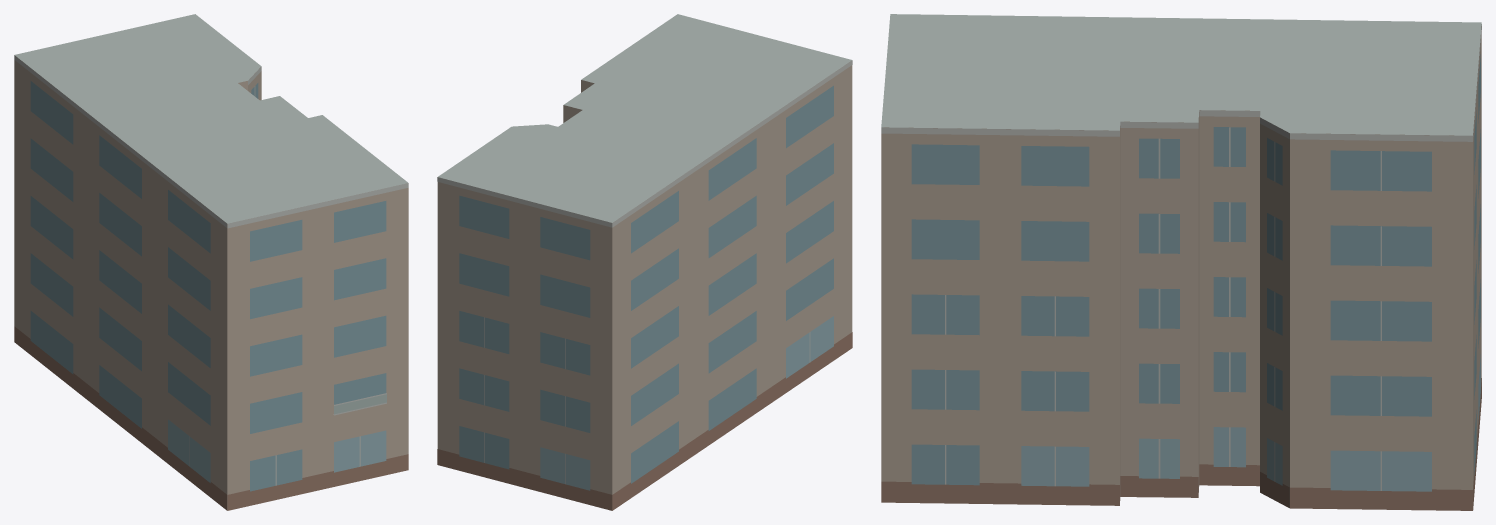
Rendered from survey-upis-32663201.glb.
3 views of the same model, side by side, from view 1: azimuth 30°, elevation 25°; view 2: azimuth 150°, elevation 25°; view 3: azimuth 270°, elevation 25° (orthographic). The views are drawn at different scales.
Parts seen in each view (by area): view 1: survey-upis-32663201.tmp; view 2: survey-upis-32663201.tmp; view 3: survey-upis-32663201.tmp.
Boxes of the visible parts, left/top/right/bottom form: survey-upis-32663201.tmp: left=14, top=14, right=408, bottom=510; survey-upis-32663201.tmp: left=437, top=14, right=852, bottom=510; survey-upis-32663201.tmp: left=881, top=14, right=1481, bottom=510.
Size of the model in its own units: 10.31 by 14.8 by 21.48.
